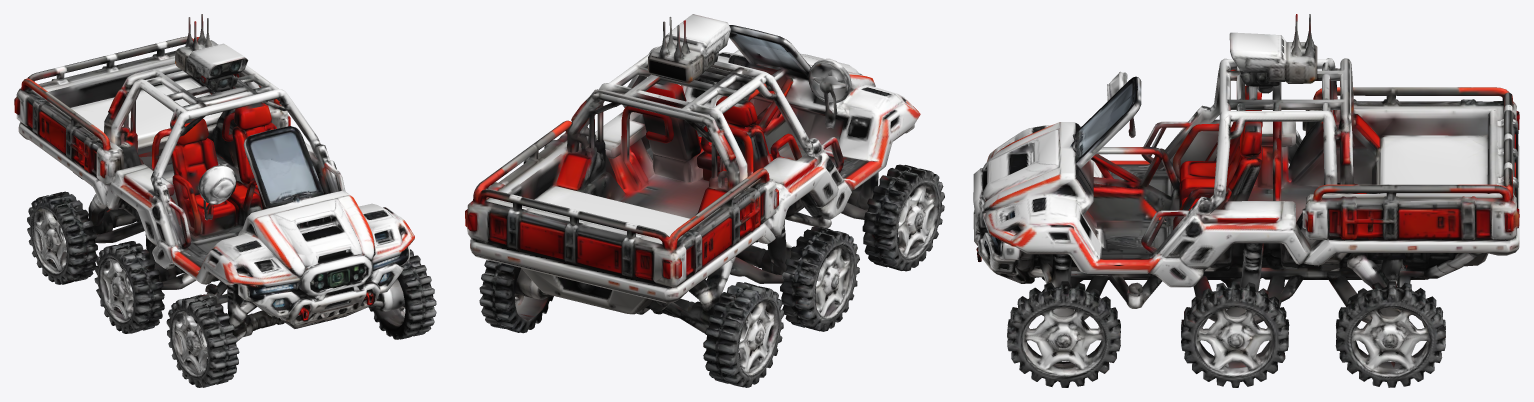
Rendered from rover.glb.
3 renders of one model, left to right at view 1: azimuth 30°, elevation 25°; view 2: azimuth 150°, elevation 25°; view 3: azimuth 270°, elevation 25°, orthographic. The views are drawn at different scales.
Visible parts, largest first — view 1: RoverBody, Wheel_FL, Wheel_RL, Wheel_ML, Wheel_FR; view 2: RoverBody, Wheel_FL, Wheel_RL, Wheel_ML, Wheel_RR; view 3: RoverBody, Wheel_FR, Wheel_RR, Wheel_MR.
Boxes of the visible parts, x1,y1,x2,y2 form: RoverBody: (14, 14, 414, 340); Wheel_FL: (166, 294, 239, 387); Wheel_RL: (27, 191, 112, 284); Wheel_ML: (94, 241, 164, 333); Wheel_FR: (369, 249, 436, 339); RoverBody: (465, 14, 920, 333); Wheel_FL: (862, 164, 944, 271); Wheel_RL: (703, 282, 784, 387); Wheel_ML: (780, 214, 859, 331); Wheel_RR: (479, 260, 553, 333); RoverBody: (973, 14, 1519, 323); Wheel_FR: (1007, 281, 1120, 387); Wheel_RR: (1335, 281, 1445, 387); Wheel_MR: (1181, 281, 1289, 387).
Size of the model in its own units: 0.592 by 0.6561 by 1.06.
Materials: 1 (1 with a texture image).
